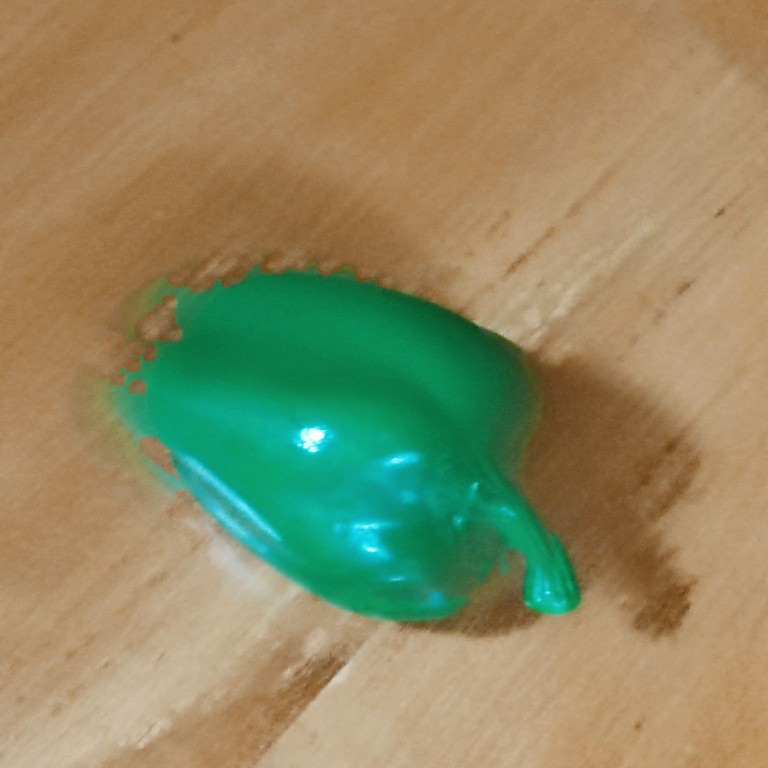fruit_pepper: (94, 255, 594, 642)
